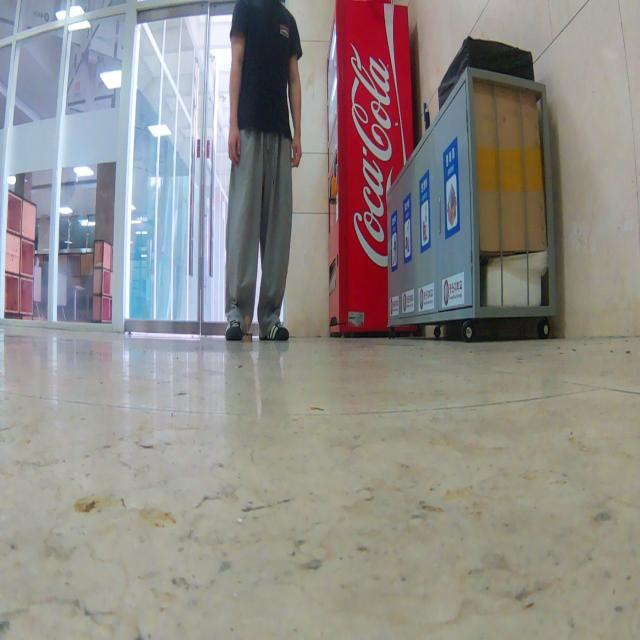target: (242, 315, 253, 344)
